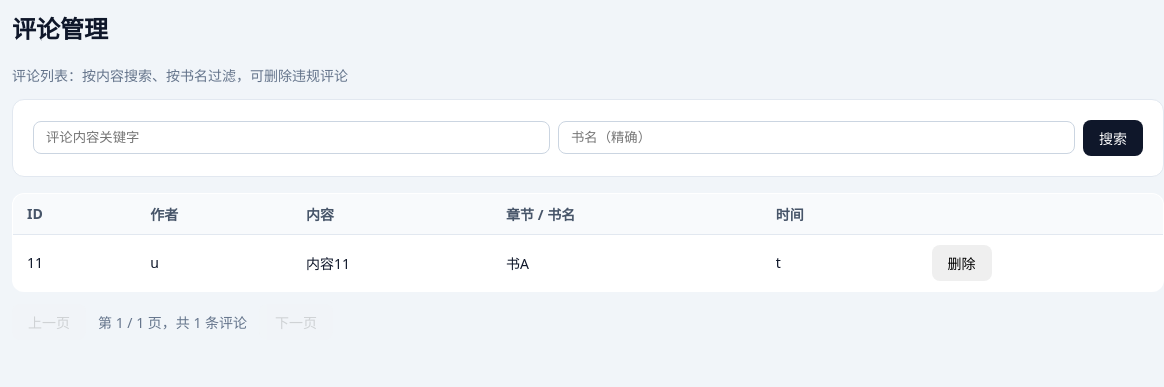
Comments.vue › 删除失败展示后端文案且保留现有行
This screenshot has width=1164, height=387.
Click the button "删除": click(962, 263) top-left (932, 245), bottom-right (992, 281)
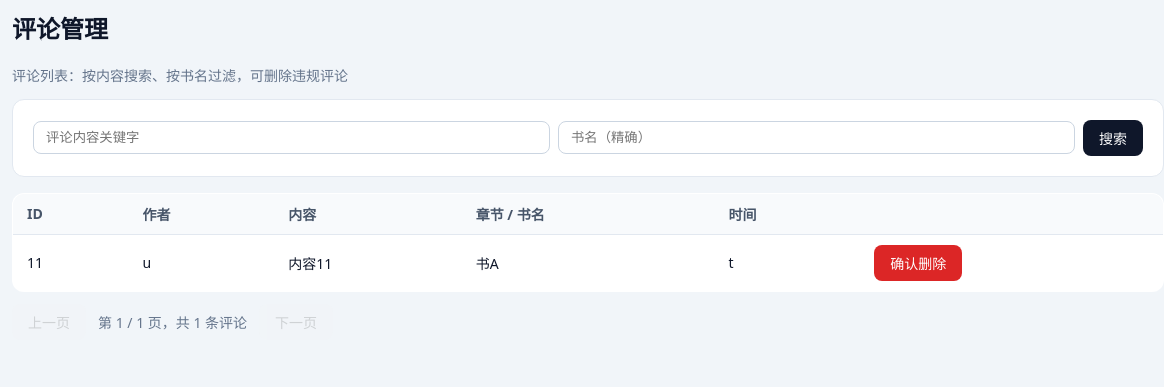
Click the button "确认删除": click(918, 263) top-left (874, 245), bottom-right (962, 281)
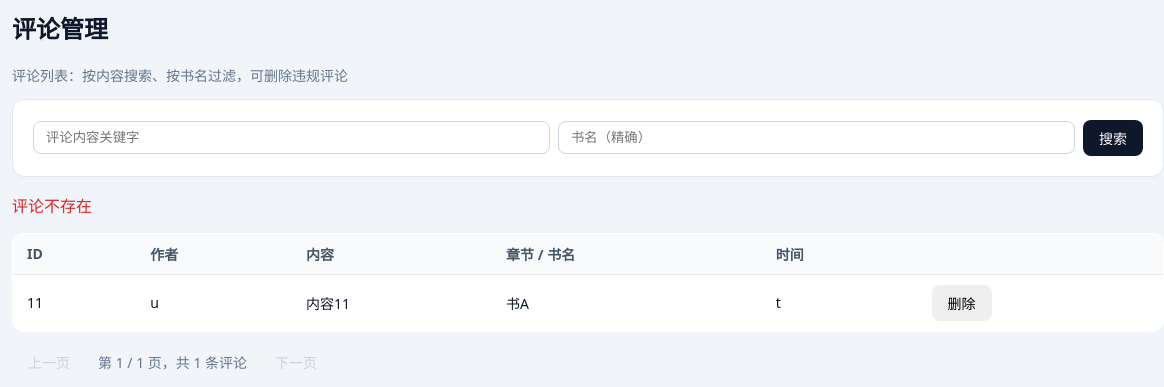
Expected: the text "内容11" is shown, top-left (292, 274), bottom-right (492, 331)
Now the text "评论不存在" is shown, box top-left (12, 195), bottom-right (92, 217)
